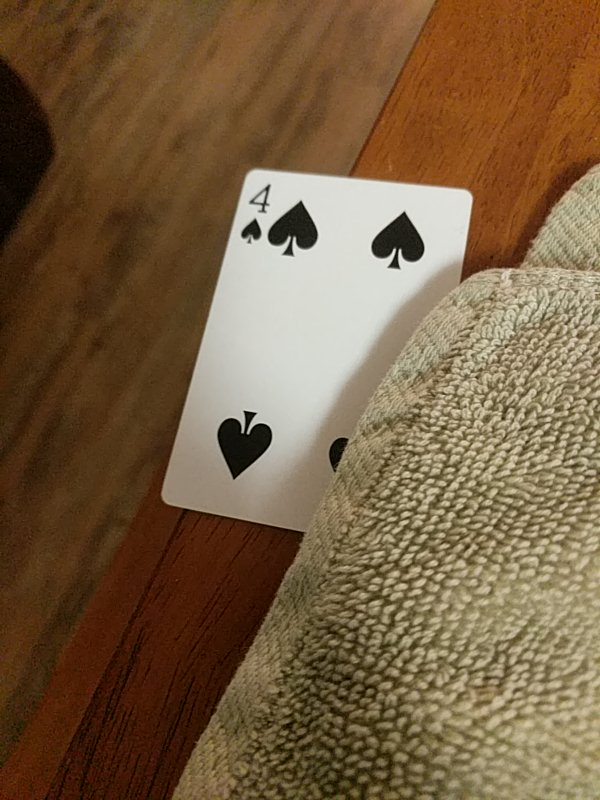Spades: (159, 168, 478, 533)
